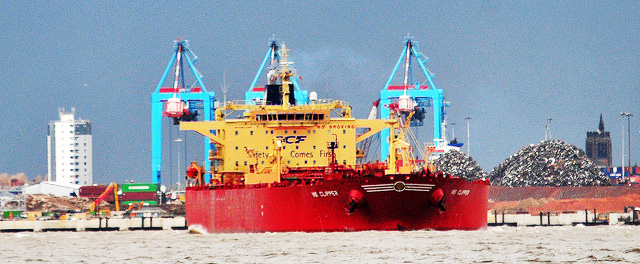tanker: (180, 44, 492, 233)
